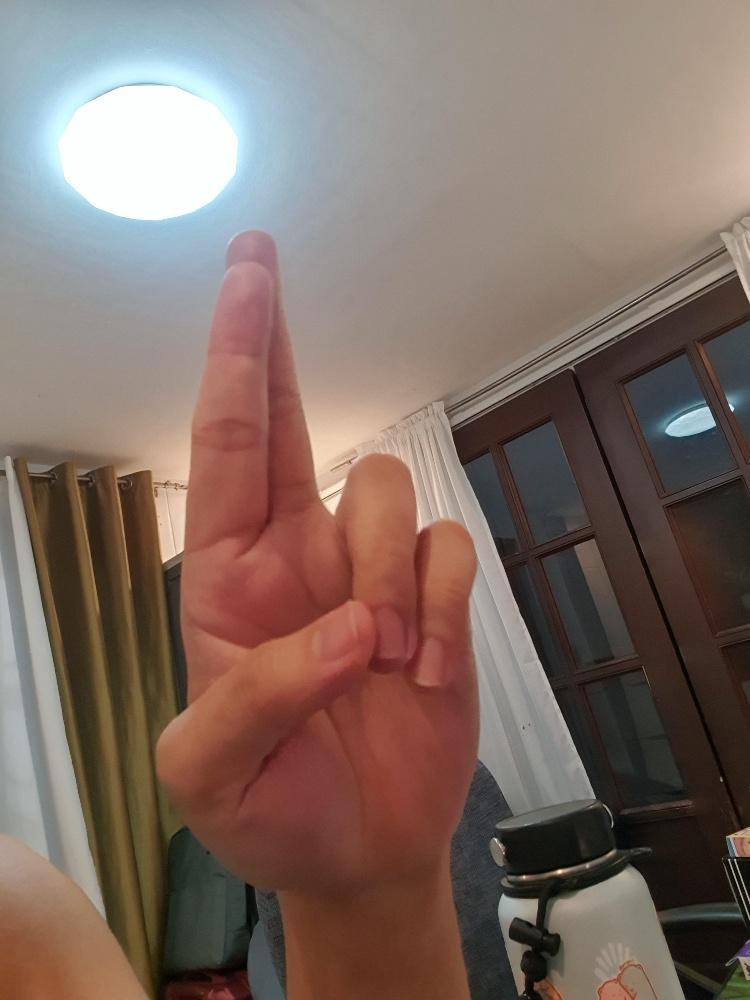r: (150, 222, 484, 899)
